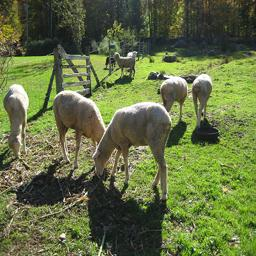sheep: (103, 132, 209, 251), (178, 148, 256, 256), (6, 123, 58, 233), (227, 111, 256, 174), (235, 107, 256, 192), (221, 76, 256, 116), (244, 74, 256, 86)
